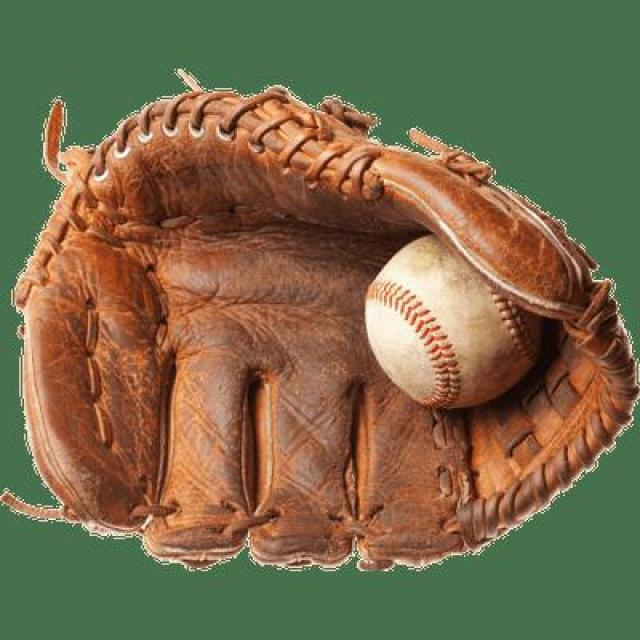baseball: (367, 230, 538, 408)
